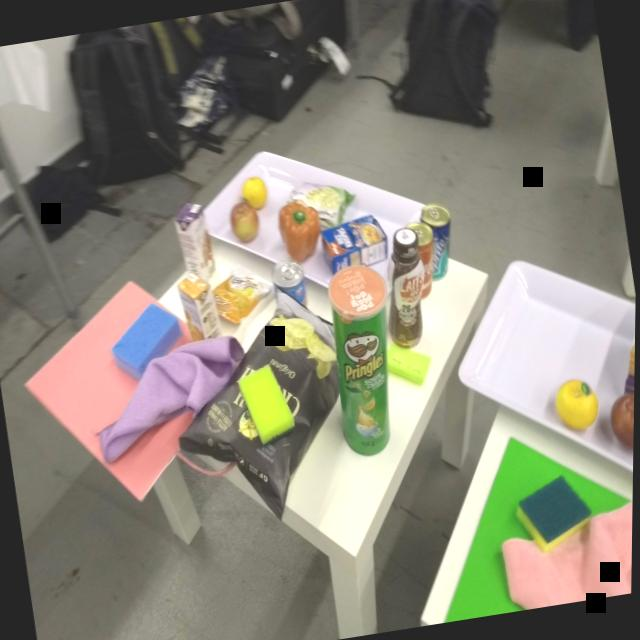apple: (225, 198, 265, 250), (605, 391, 635, 456)
cereal: (316, 207, 396, 276)
chocolate_drink: (375, 223, 439, 356)
grape_juice: (171, 196, 222, 288)
orange: (553, 373, 605, 439), (240, 172, 274, 213)
orange_juice: (176, 270, 228, 348)
paprika: (273, 195, 330, 268)
potato_chips: (158, 275, 378, 538)
scrubby: (506, 468, 601, 559), (234, 362, 302, 449)
sponge_opl: (103, 295, 193, 390)
